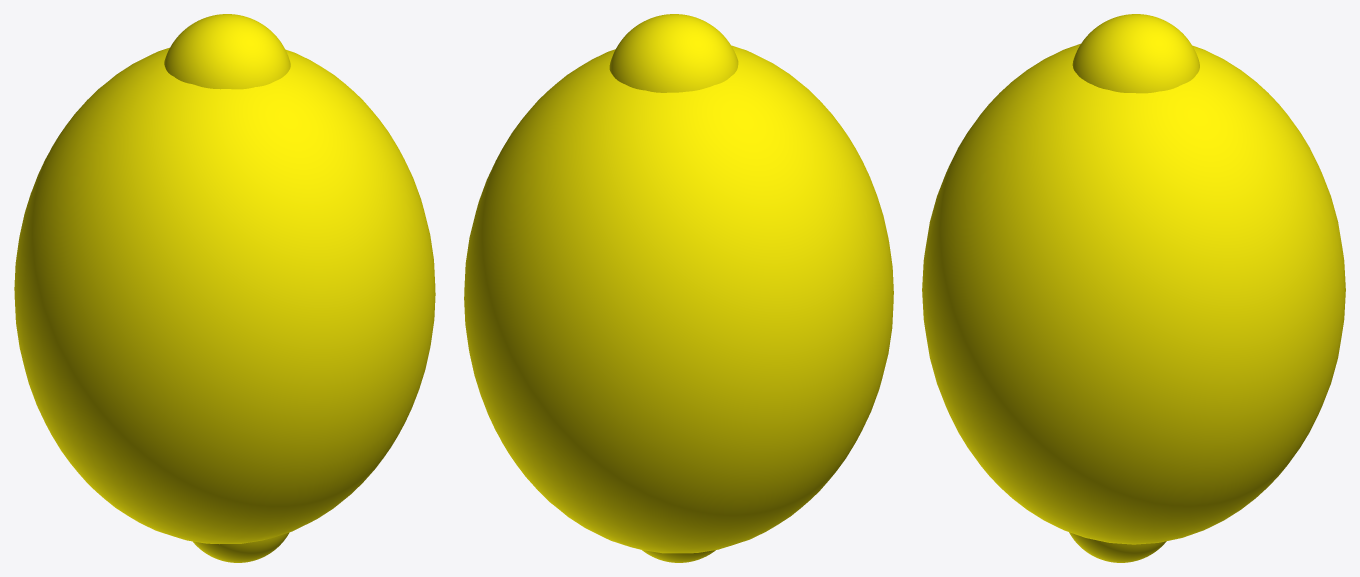
File: lemon.fbx
3 renders of one model, left to right at view 1: azimuth 30°, elevation 25°; view 2: azimuth 150°, elevation 25°; view 3: azimuth 270°, elevation 25°, orthographic. The views are drawn at different scales.
Visible parts, largest first — view 1: root (×3); view 2: root (×3); view 3: root (×3).
Part boxes in pixels (x1=…): root (×3): x1=14, y1=14, x2=435, y2=562; root (×3): x1=464, y1=14, x2=893, y2=562; root (×3): x1=922, y1=14, x2=1345, y2=562.
Size of the model in its own units: 0.1417 by 0.1975 by 0.1417.
